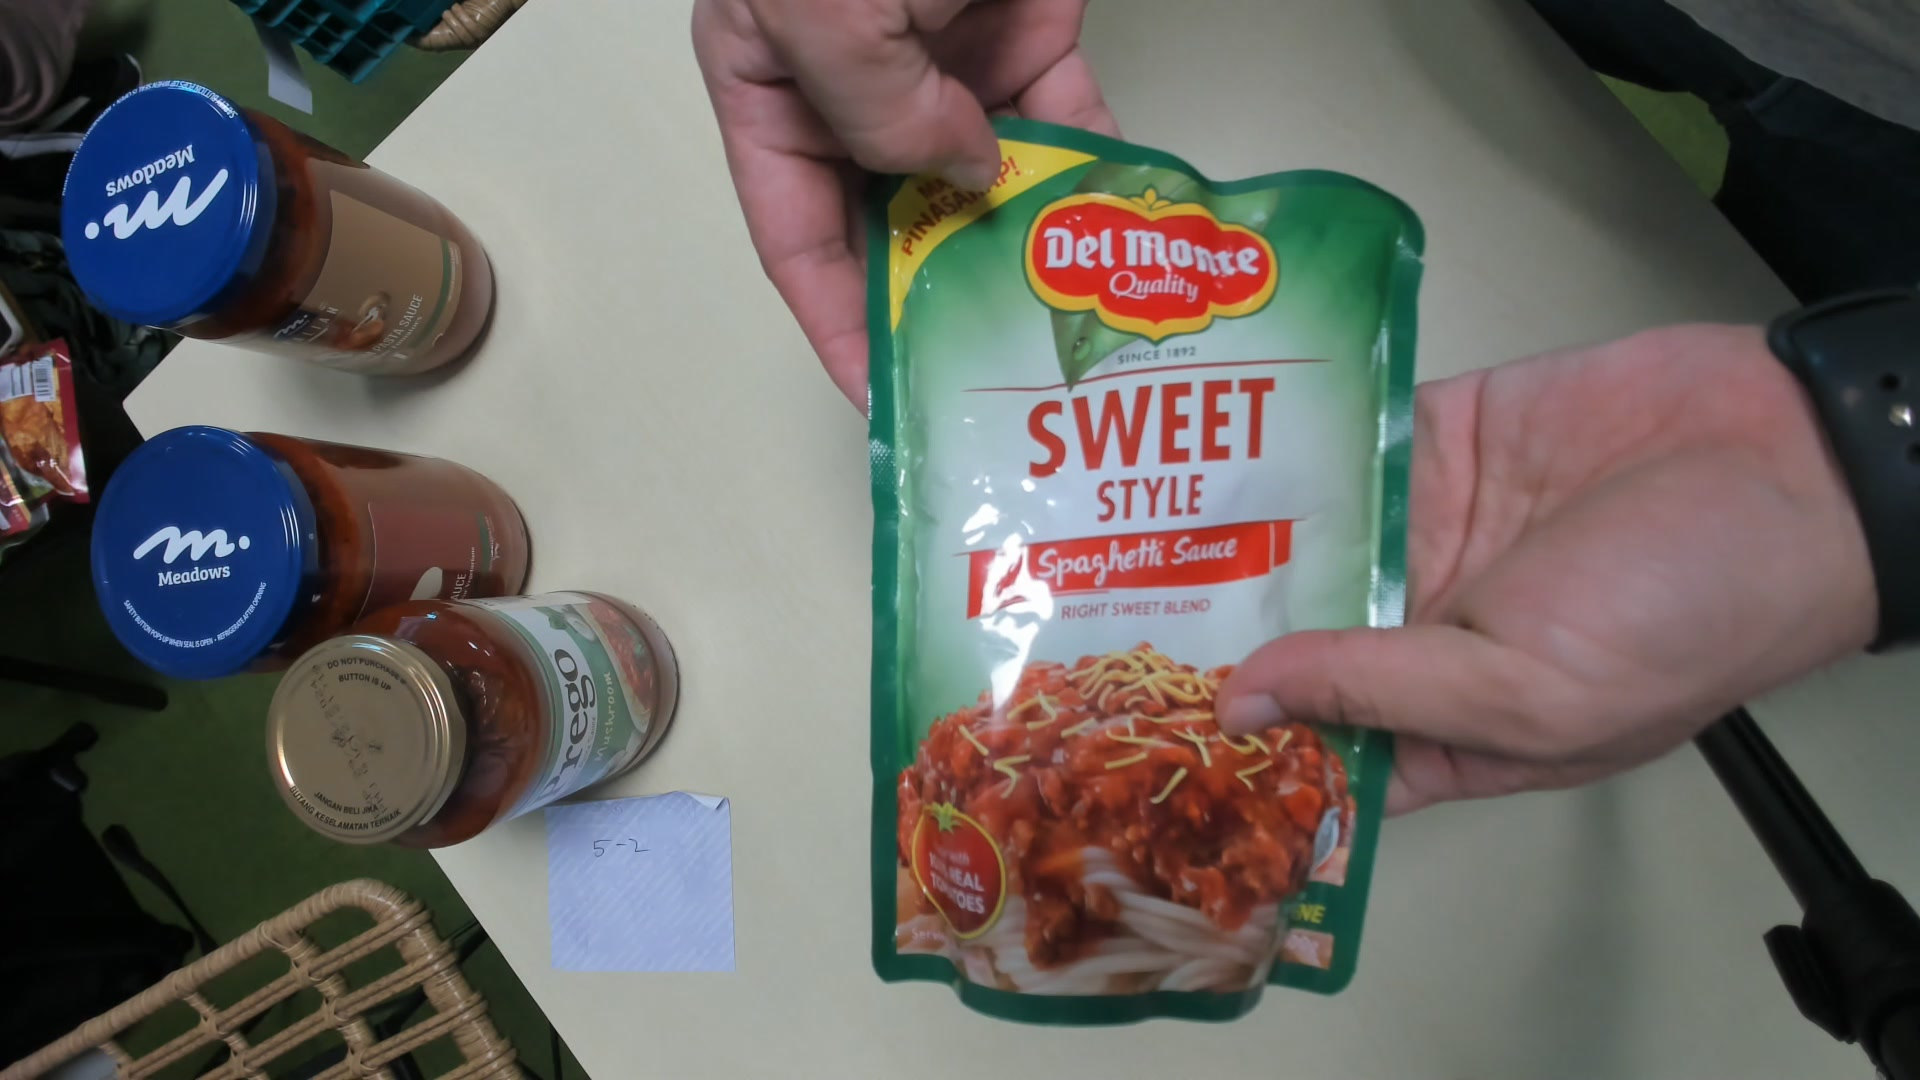PastaSauce_500-599g_Halal_NonHealthy: (872, 109, 1414, 1029)
